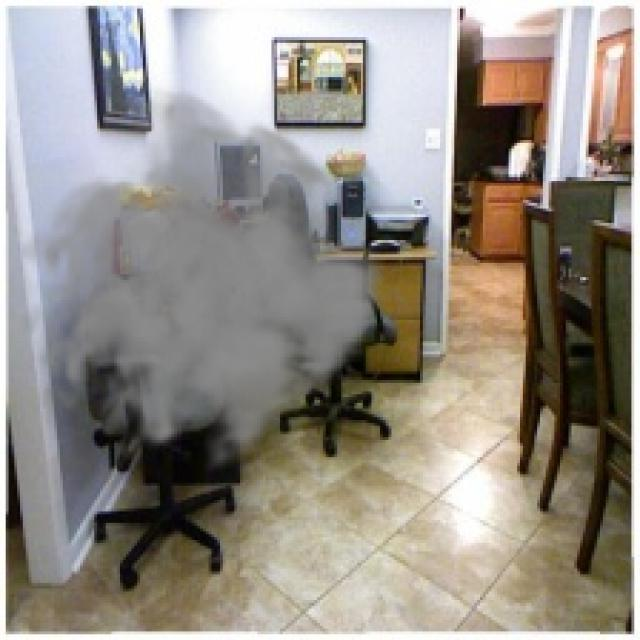Smoke: (17, 83, 389, 486)
